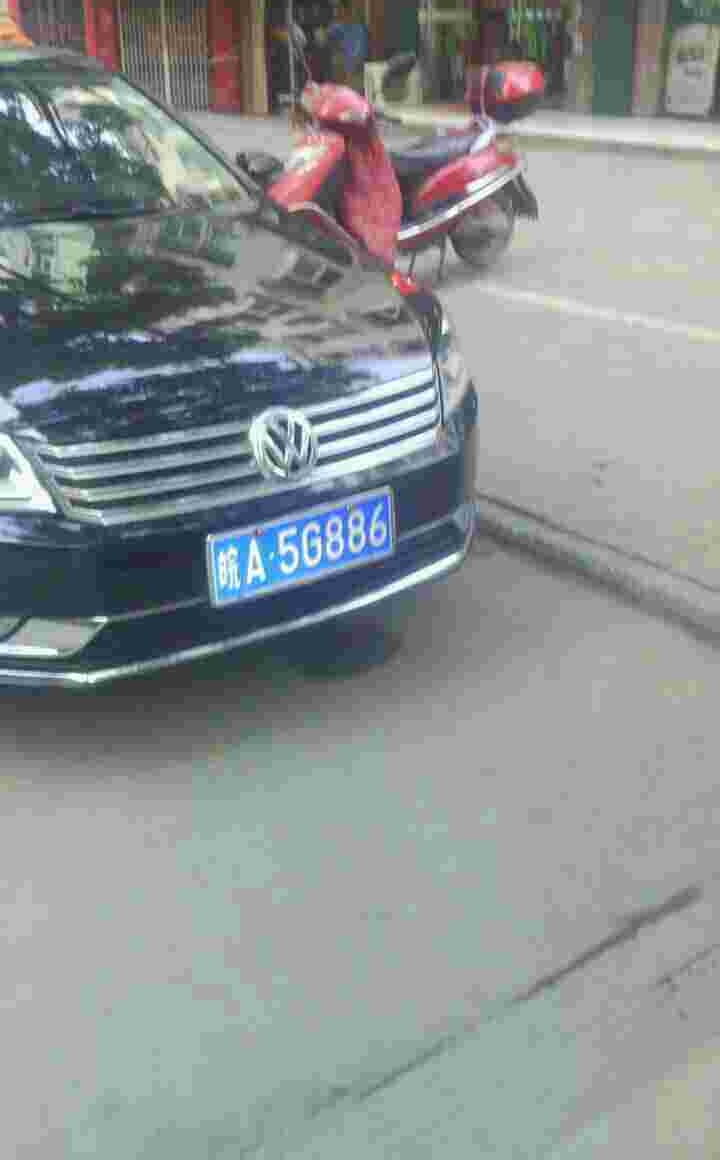license_plate: (216, 494, 401, 604)
